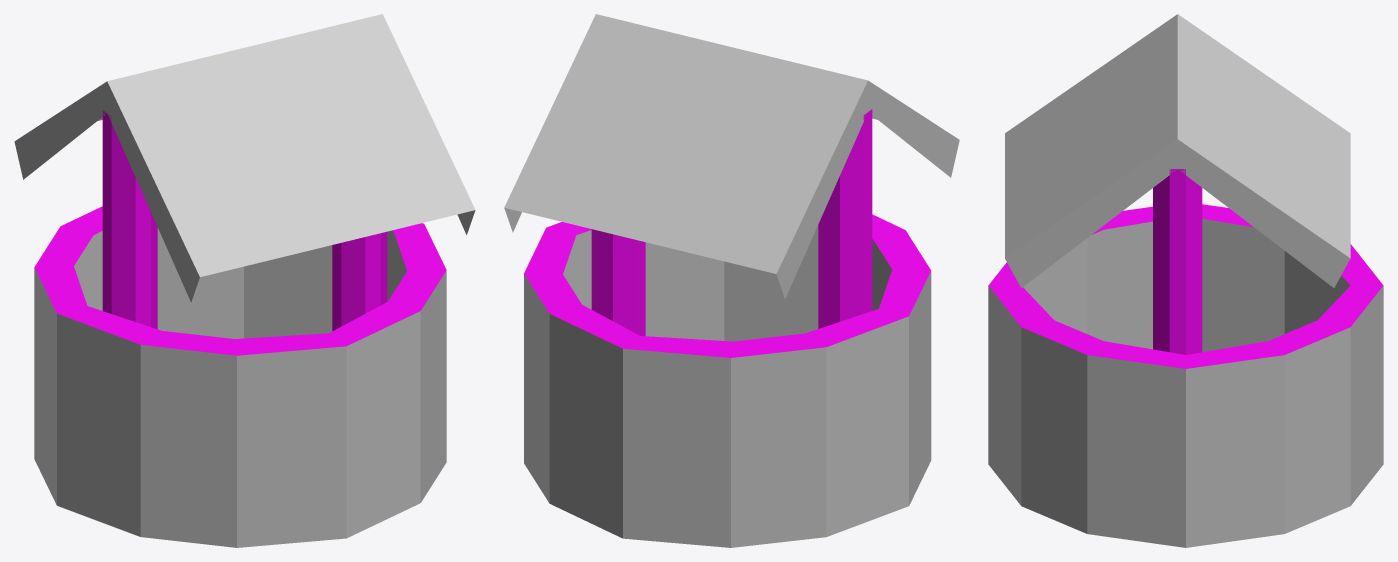
File: well.obj
3 renders of one model, left to right at view 1: azimuth 30°, elevation 25°; view 2: azimuth 150°, elevation 25°; view 3: azimuth 270°, elevation 25°, orthographic. The views are drawn at different scales.
Parts seen in each view (by area): view 1: well_back; view 2: well_back; view 3: well_back.
Boxes of the visible parts, bbox=[...] form: well_back: bbox=[14, 14, 475, 547]; well_back: bbox=[504, 14, 959, 547]; well_back: bbox=[988, 14, 1383, 547].
Size of the model in its own units: 1.92 by 2.08 by 1.92.
